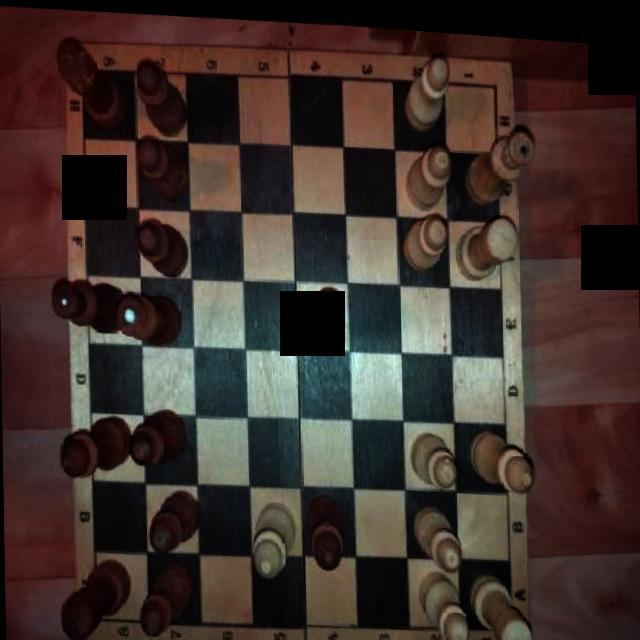chess-table-corners: (65, 36, 108, 108), (74, 580, 124, 640), (468, 50, 514, 114), (484, 582, 534, 640)
